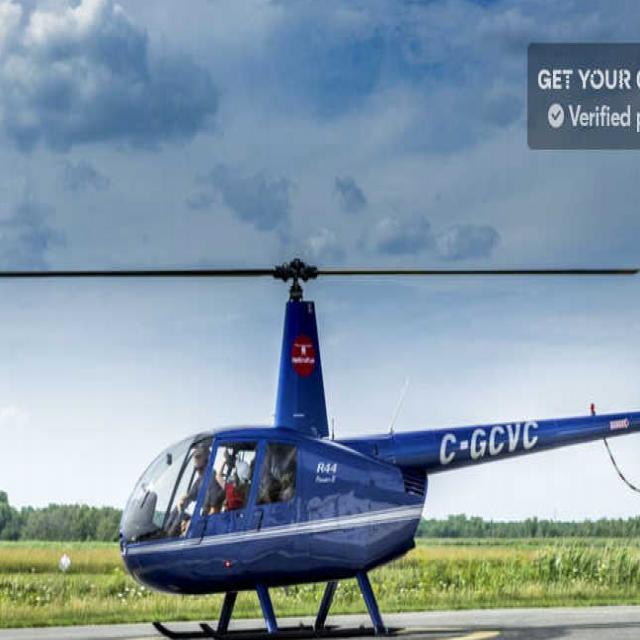helicopter: (1, 236, 640, 640)
